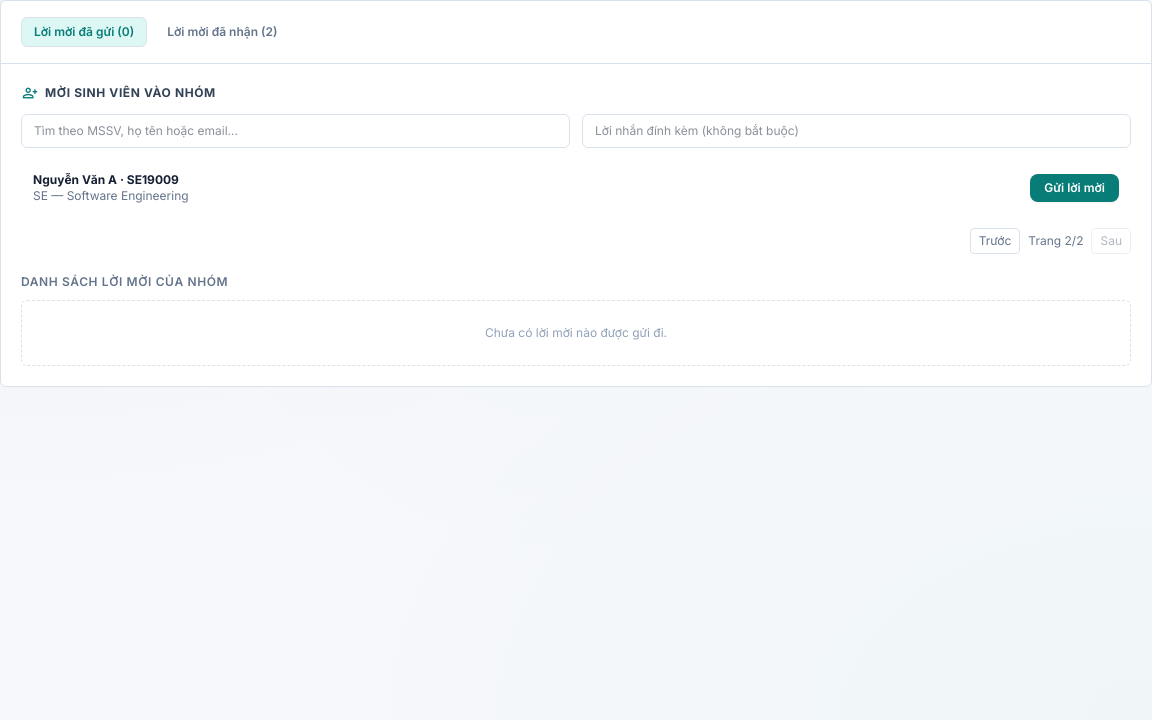
TeamInvitationsPanel › displays team name when available, with fallback to Nhóm #{teamId}
What coordinates should you click on to do the following:
click the button "Lời mời đã nhận (2)"
I would click on:
 (222, 32)
Its box is [155,18,290,46].
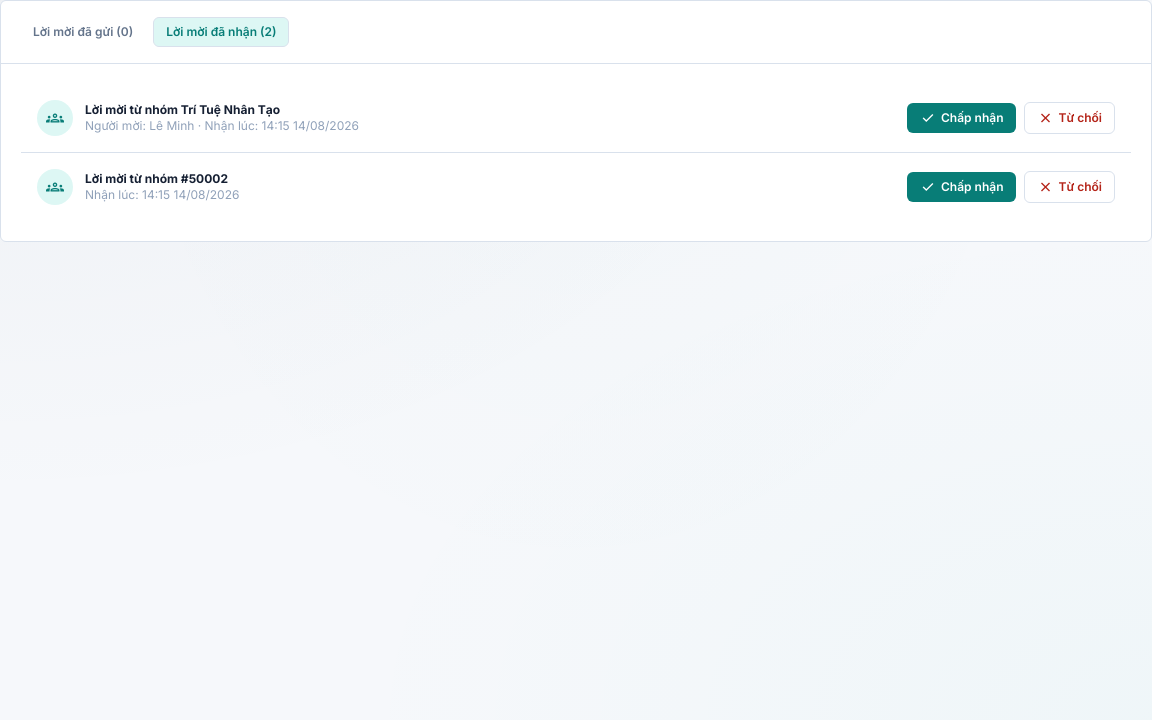
Expected: the text "Lời mời từ nhóm Trí Tuệ Nhân Tạo" is shown, [85,102,280,117]
Expected: the text "Lời mời từ nhóm #50002" is shown, [85,171,239,187]
